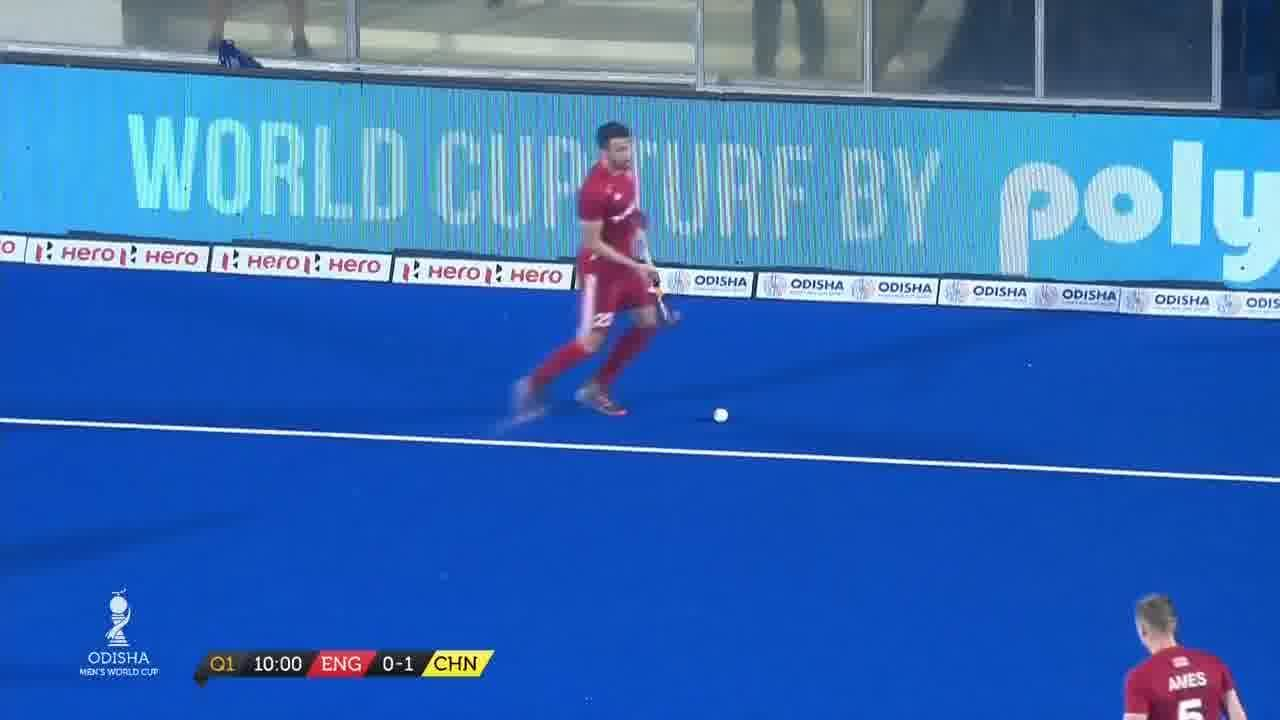ball: (704, 403, 731, 426)
